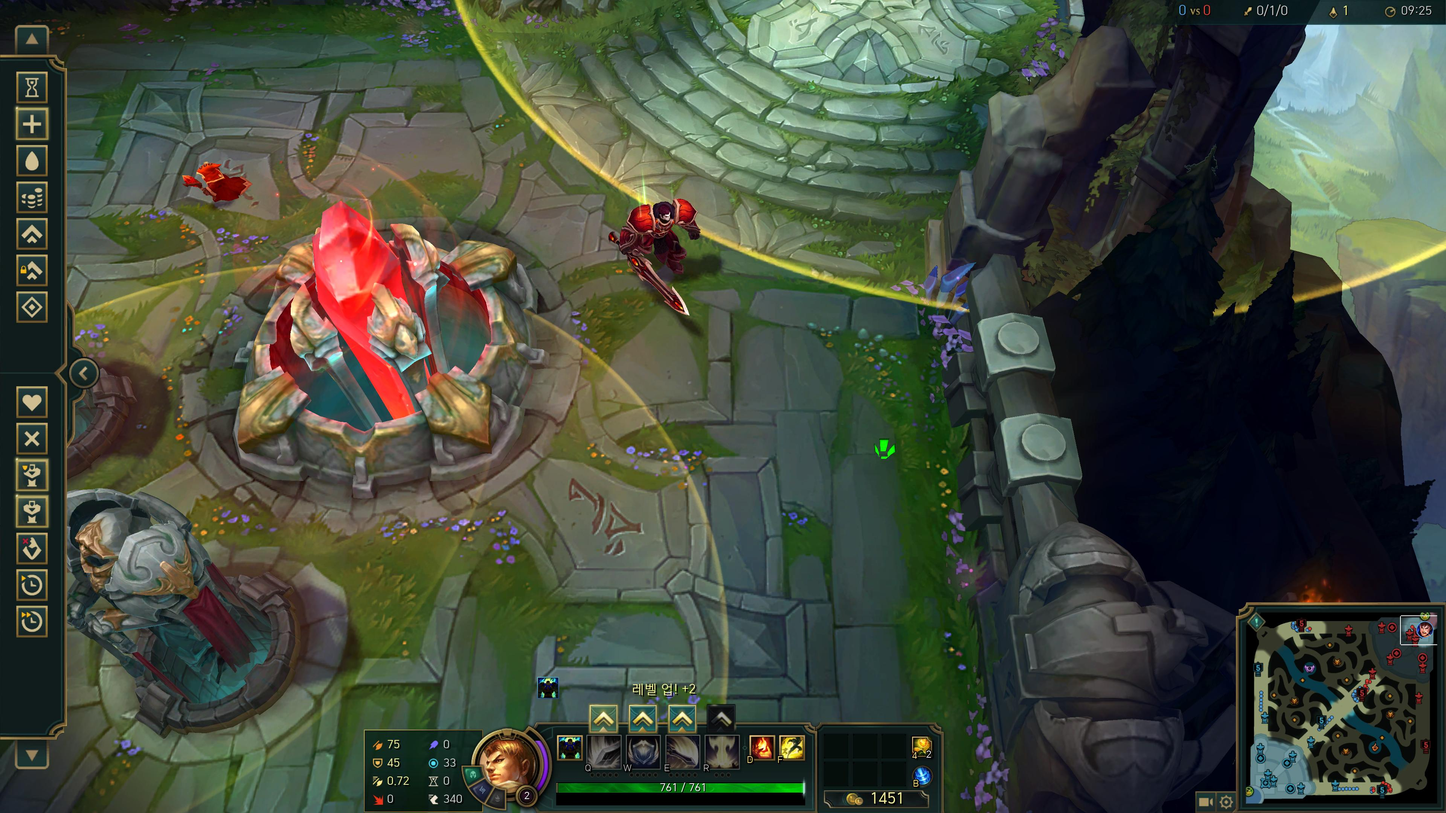enemy-caster-minion: (180, 158, 250, 201)
enemy-nexus: (180, 203, 572, 527)
enemy-tower: (70, 489, 349, 760)
